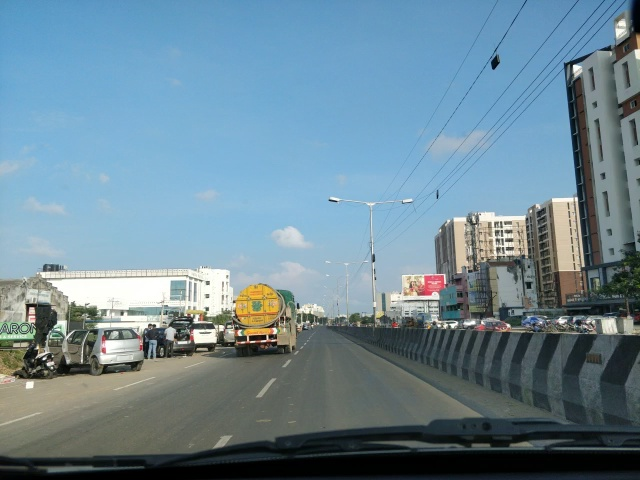car: (42, 326, 148, 378), (147, 320, 194, 359), (195, 321, 218, 352), (225, 321, 245, 345)
motorbike: (21, 344, 55, 381)
person: (163, 321, 179, 358), (145, 323, 159, 357)
truck: (234, 283, 298, 358)
